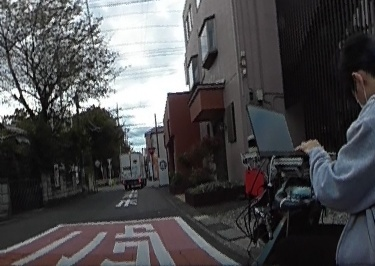person: (272, 29, 375, 265)
